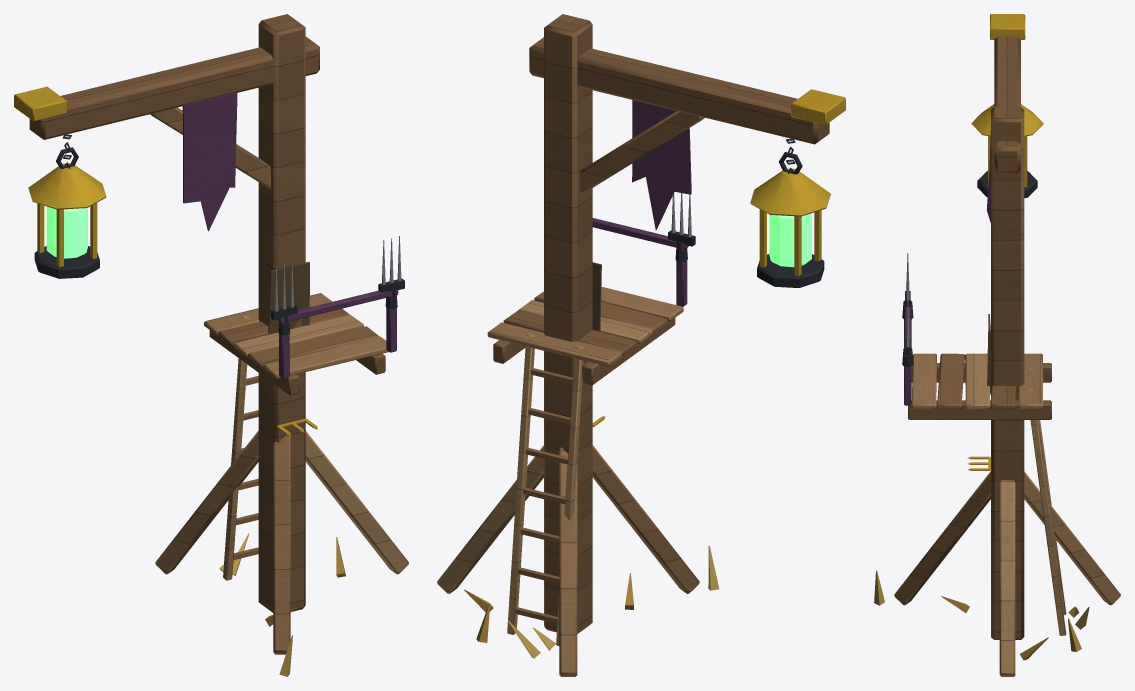
File: rakehand_perch.glb
3 views of the same model, side by side, from view 1: azimuth 30°, elevation 25°; view 2: azimuth 150°, elevation 25°; view 3: azimuth 270°, elevation 25° (orthographic). The views are drawn at different scales.
Visible parts, largest first — view 1: rakehand_perch.001; view 2: rakehand_perch.001; view 3: rakehand_perch.001.
Boxes of the visible parts, left/top/right/bottom form: rakehand_perch.001: left=14, top=14, right=408, bottom=676; rakehand_perch.001: left=437, top=14, right=845, bottom=676; rakehand_perch.001: left=874, top=14, right=1120, bottom=676.
Bounding box in the file's own units: 3.56 × 5.2 × 2.23.
Materials: 20 (19 with a texture image).
